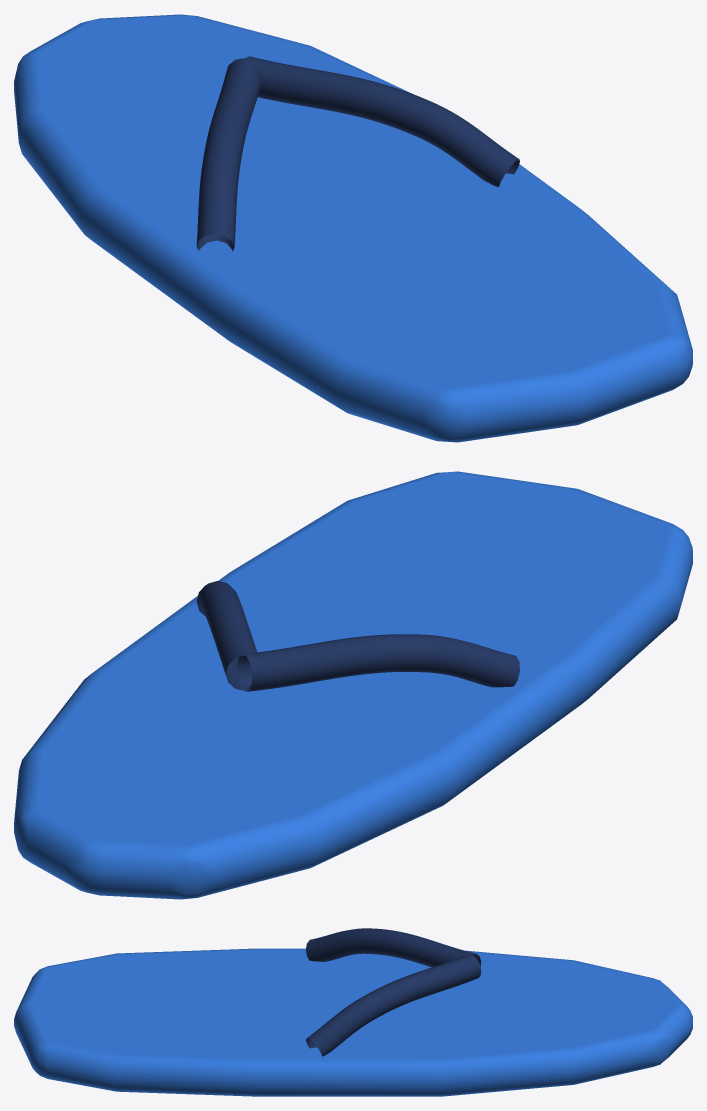
Rendered from tsinelas.fbx.
3 views of the same model, one above another, from view 1: azimuth 30°, elevation 25°; view 2: azimuth 150°, elevation 25°; view 3: azimuth 270°, elevation 25° (orthographic). The views are drawn at different scales.
Parts seen in each view (by area): view 1: Tsinelas - Sole, Right V Strap, Left V Strap; view 2: Tsinelas - Sole, Left V Strap, Right V Strap; view 3: Tsinelas - Sole, Right V Strap, Left V Strap.
Boxes of the visible parts, box(x1,y1,x2,y2) form: Tsinelas - Sole: box(14, 14, 692, 442); Right V Strap: box(245, 56, 519, 187); Left V Strap: box(196, 58, 260, 251); Tsinelas - Sole: box(14, 471, 692, 899); Left V Strap: box(237, 634, 519, 691); Right V Strap: box(196, 581, 257, 690); Tsinelas - Sole: box(14, 948, 692, 1096); Right V Strap: box(306, 954, 481, 1056); Left V Strap: box(306, 928, 481, 967).
Size of what is drawn, in the model's own units: 124 by 40.49 by 290.
